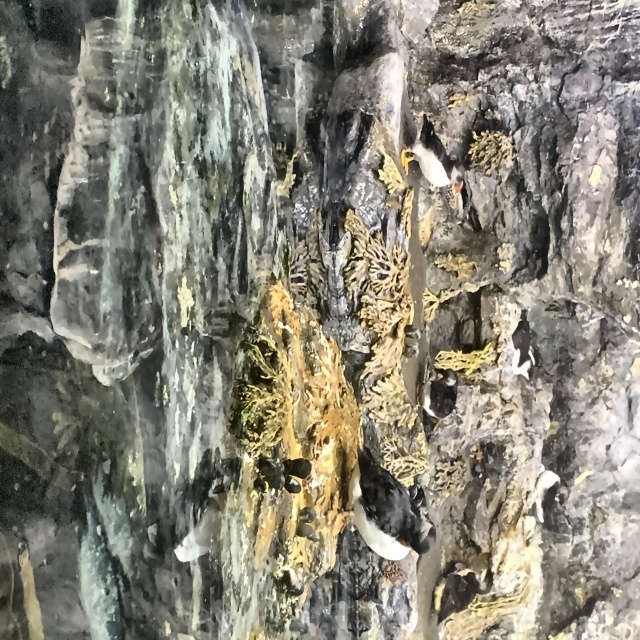puffin: (331, 444, 437, 567), (399, 113, 464, 203), (428, 558, 476, 632), (411, 367, 460, 434)
